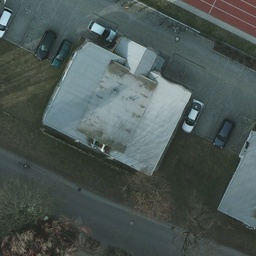car: (180, 98, 203, 134), (86, 19, 116, 44), (37, 27, 57, 60), (213, 118, 233, 148), (52, 40, 68, 69), (1, 7, 14, 42)
